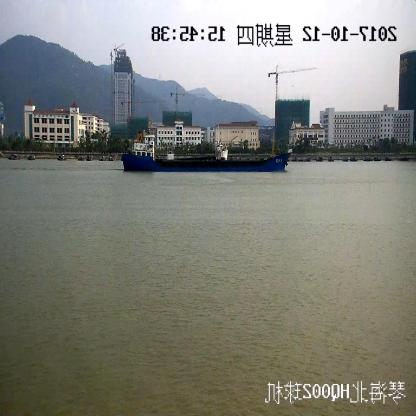Bulk Carrier: (122, 125, 290, 171)
